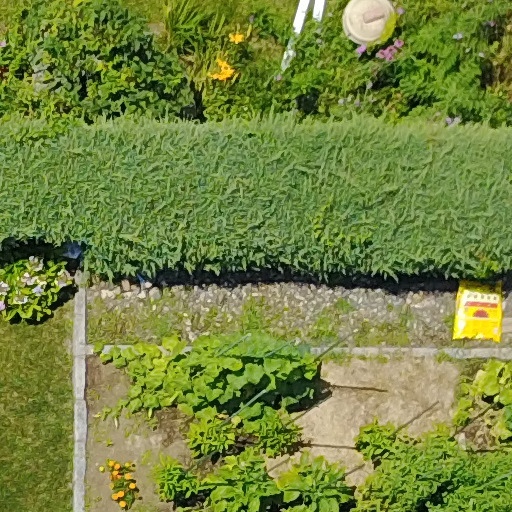trash bin: (329, 1, 411, 48)
